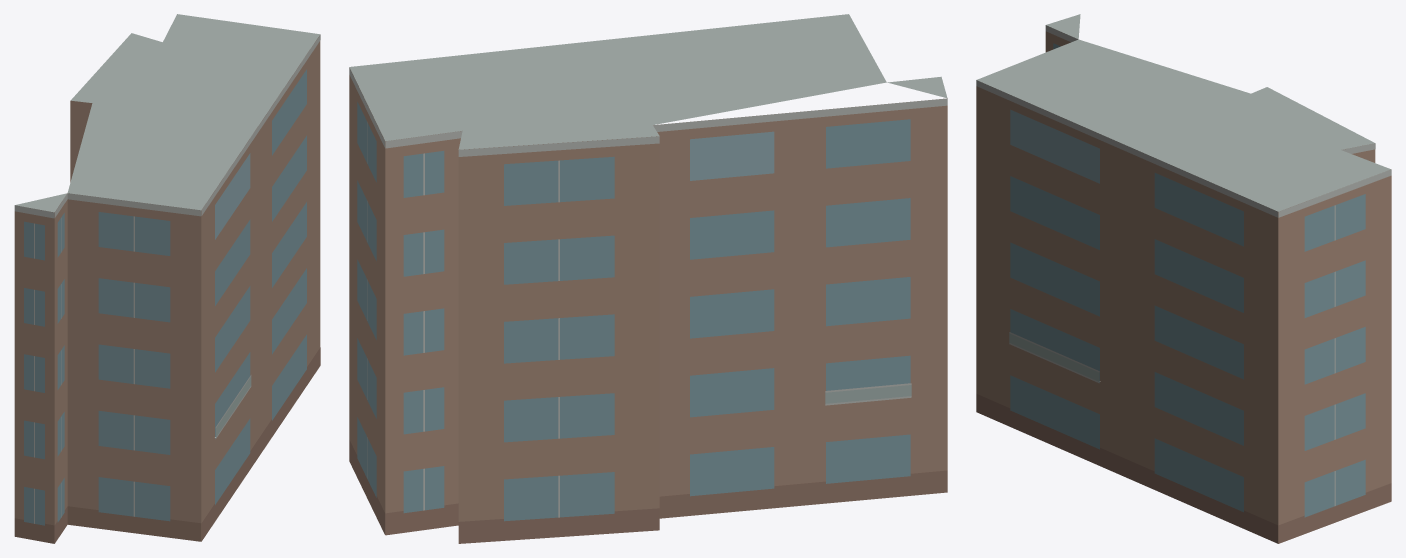
File: survey-upis-32643315.glb
3 renders of one model, left to right at view 1: azimuth 30°, elevation 25°; view 2: azimuth 150°, elevation 25°; view 3: azimuth 270°, elevation 25°, orthographic. The views are drawn at different scales.
Parts seen in each view (by area): view 1: survey-upis-32643315.tmp; view 2: survey-upis-32643315.tmp; view 3: survey-upis-32643315.tmp.
Boxes of the visible parts, x1=… form: survey-upis-32643315.tmp: x1=14, y1=14, x2=320, y2=543; survey-upis-32643315.tmp: x1=349, y1=14, x2=947, y2=543; survey-upis-32643315.tmp: x1=976, y1=14, x2=1391, y2=543.
Bounding box in the file's own units: 16.86 × 13.2 × 14.96.
